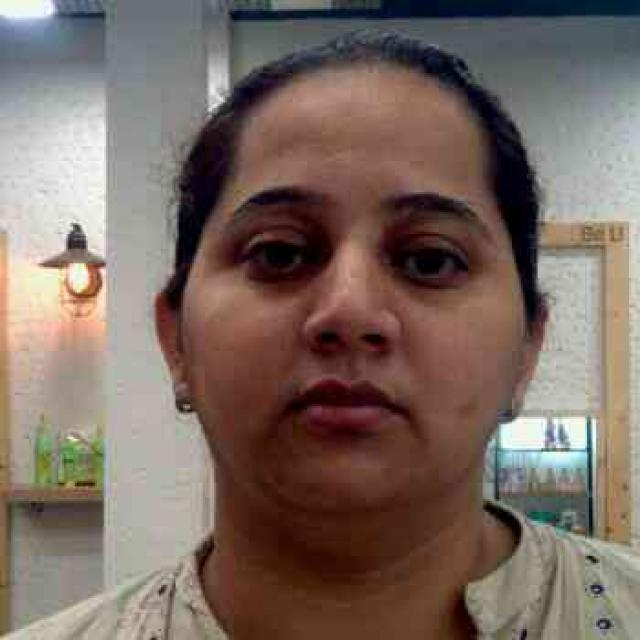Puffy Eyes - v3 Dark Circle: (240, 260, 331, 295), (387, 268, 462, 305)
